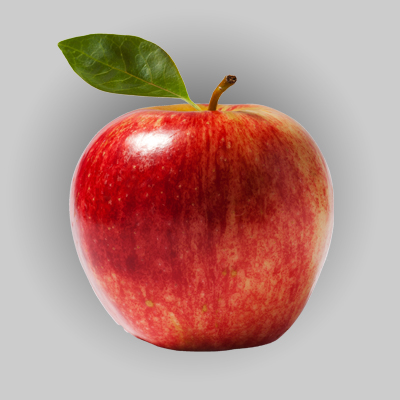apple: (50, 31, 346, 356)
